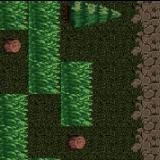Obstacle: (61, 125, 93, 156), (62, 0, 94, 29), (0, 30, 29, 59)
Slow: (29, 0, 62, 93), (61, 60, 93, 126), (0, 94, 28, 160), (0, 1, 29, 30)
